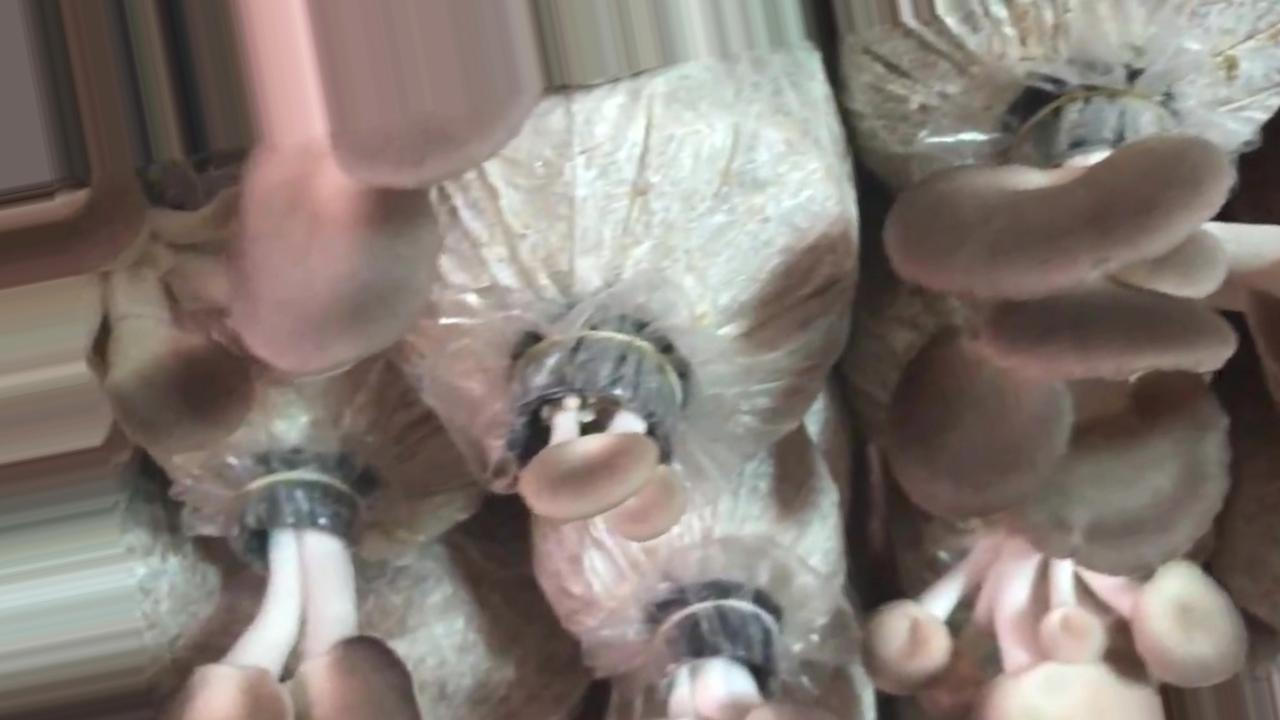nam: (107, 1, 538, 448), (884, 95, 1280, 571), (861, 538, 1248, 720), (179, 467, 416, 720), (520, 332, 689, 543), (659, 603, 800, 720)
